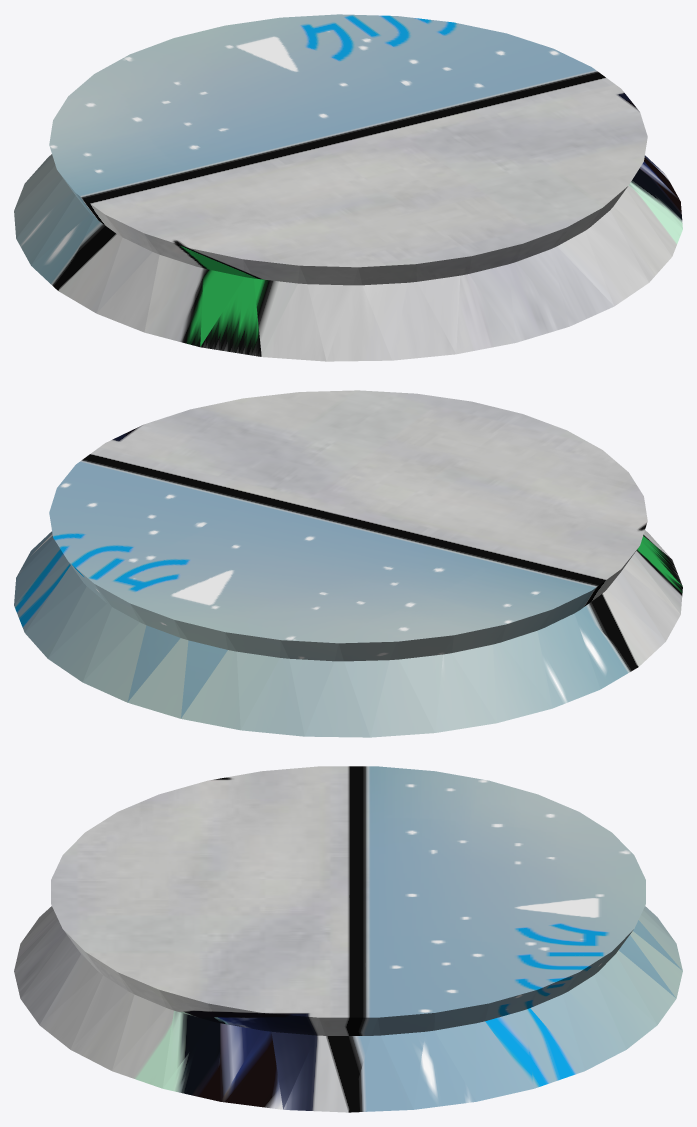
File: Tank.gltf
3 views of the same model, one above another, from view 1: azimuth 30°, elevation 25°; view 2: azimuth 150°, elevation 25°; view 3: azimuth 270°, elevation 25° (orthographic).
Parts seen in each view (by area): view 1: Cone; view 2: Cone; view 3: Cone.
Boxes of the visible parts, x1,y1,x2,y2 form: Cone: [14, 14, 682, 361]; Cone: [14, 390, 682, 737]; Cone: [14, 766, 682, 1112].
Bounding box in the file's own units: 2.15 × 0.2814 × 2.15.
1 material, 1 textured.
